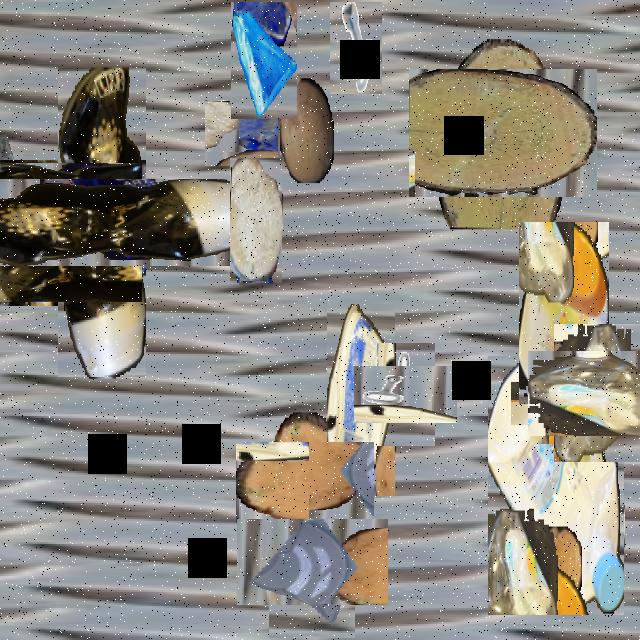glass: (252, 502, 372, 622), (217, 88, 309, 179), (0, 159, 79, 263), (231, 2, 297, 119)
metal: (366, 354, 446, 435), (330, 2, 382, 94)
plastic: (2, 123, 202, 321), (488, 356, 624, 615), (0, 161, 140, 304), (519, 222, 609, 404), (327, 304, 395, 496), (541, 336, 640, 449)
wood: (424, 54, 582, 213), (250, 427, 360, 537), (230, 158, 282, 283), (280, 78, 334, 182), (520, 372, 584, 435)
